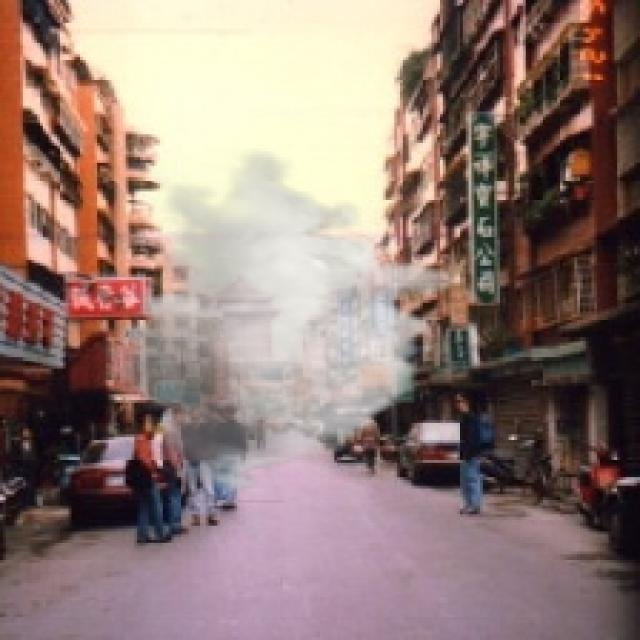Smoke: (100, 148, 460, 494)
